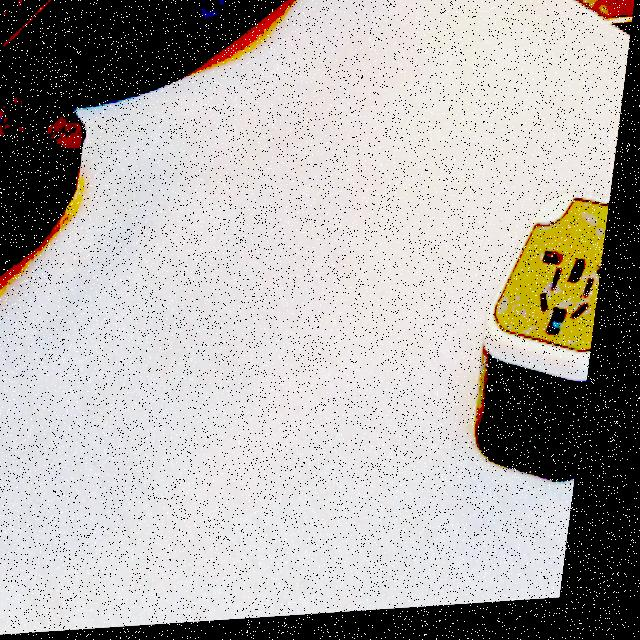adapter: (474, 194, 617, 495)
